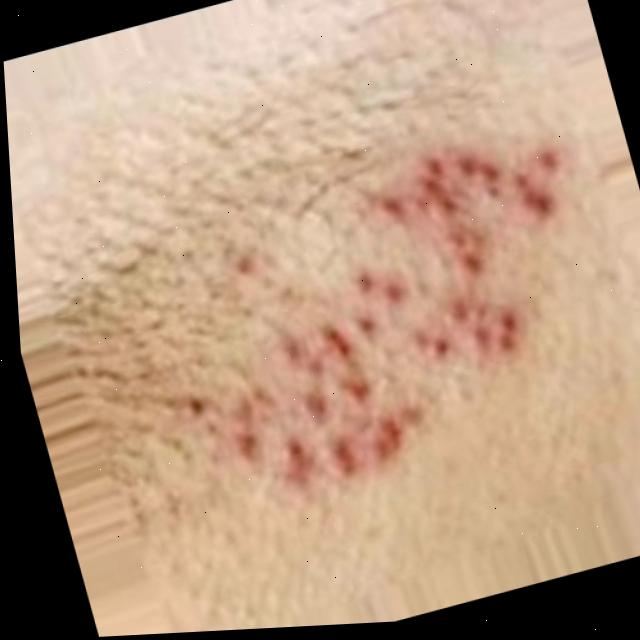Shingles: (181, 122, 640, 489)
